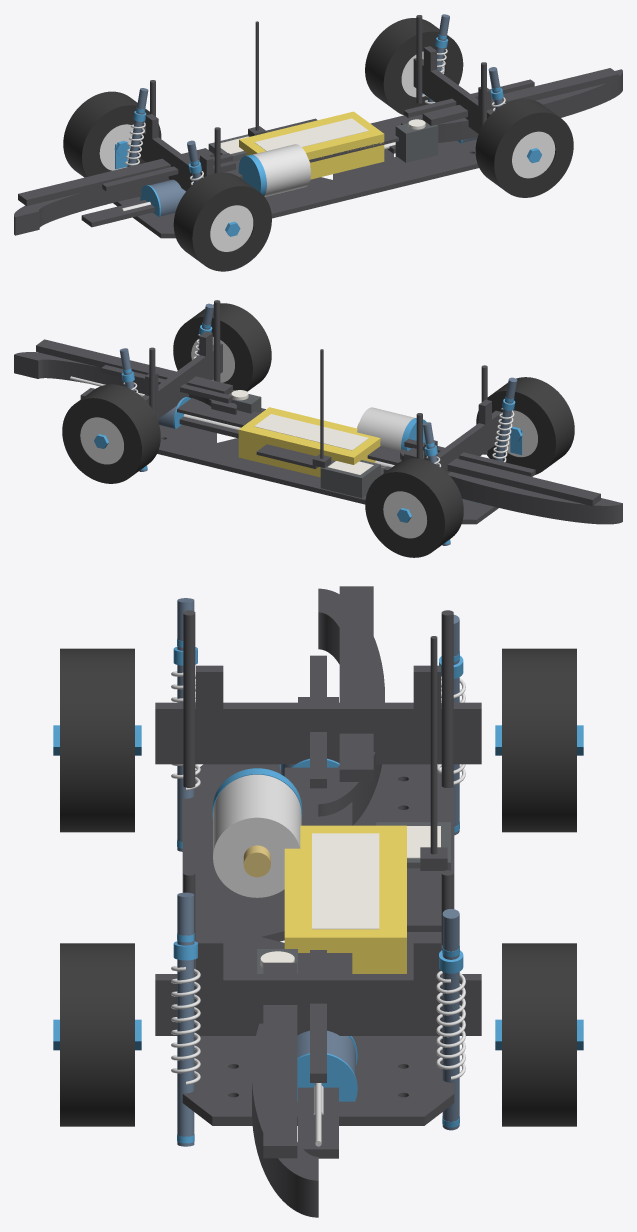
The model's file is HSP94182_assembly.glb.
3 views of the same model, one above another, from view 1: azimuth 30°, elevation 25°; view 2: azimuth 150°, elevation 25°; view 3: azimuth 270°, elevation 25° (orthographic). The views are drawn at different scales.
Parts seen in each view (by area): view 1: tire_part (×4), chassis_plate_part, foam_part (×2), holder_part (×2), rim_part (×4), pack_part, shock_tower_front_part, can_part, shock_tower_rear_part, label_part, case_part, lower_arm_rr_part (+10 smaller); view 2: tire_part (×4), foam_part (×2), chassis_plate_part, holder_part (×2), rim_part (×4), pack_part, shock_tower_front_part, upper_deck_part, shock_tower_rear_part, case_part (×2), label_part, can_part (+9 smaller); view 3: tire_part (×4), chassis_plate_part, shock_tower_rear_part, shock_tower_front_part, holder_part (×2), pack_part, can_part, foam_part (×2), body_part (×3), label_part, upper_deck_part, spring_part (×2) (+8 smaller).
Boxes of the visible parts, x1=… form: tire_part (×4): x1=63, y1=18, x2=573, y2=271; chassis_plate_part: x1=113, y1=114, x2=478, y2=238; foam_part (×2): x1=14, y1=69, x2=622, y2=235; holder_part (×2): x1=18, y1=68, x2=618, y2=206; rim_part (×4): x1=99, y1=51, x2=555, y2=251; pack_part: x1=239, y1=111, x2=384, y2=179; shock_tower_front_part: x1=413, y1=46, x2=493, y2=133; can_part: x1=253, y1=144, x2=310, y2=196; shock_tower_rear_part: x1=137, y1=114, x2=213, y2=191; label_part: x1=254, y1=118, x2=368, y2=150; case_part: x1=395, y1=120, x2=438, y2=162; lower_arm_rr_part: x1=81, y1=200, x2=154, y2=227; tire_part (×4): x1=62, y1=303, x2=574, y2=557; foam_part (×2): x1=14, y1=352, x2=622, y2=524; chassis_plate_part: x1=157, y1=408, x2=498, y2=524; holder_part (×2): x1=36, y1=339, x2=600, y2=505; rim_part (×4): x1=80, y1=337, x2=537, y2=538; pack_part: x1=238, y1=407, x2=380, y2=477; shock_tower_front_part: x1=142, y1=331, x2=222, y2=419; upper_deck_part: x1=177, y1=398, x2=401, y2=468; shock_tower_rear_part: x1=424, y1=399, x2=502, y2=473; case_part (×2): x1=228, y1=390, x2=380, y2=498; label_part: x1=254, y1=414, x2=368, y2=450; can_part: x1=357, y1=407, x2=414, y2=450; tire_part (×4): x1=60, y1=648, x2=576, y2=1126; chassis_plate_part: x1=182, y1=764, x2=454, y2=1125; shock_tower_rear_part: x1=155, y1=665, x2=481, y2=764; shock_tower_front_part: x1=155, y1=937, x2=481, y2=1035; holder_part (×2): x1=263, y1=586, x2=373, y2=1158; pack_part: x1=284, y1=825, x2=406, y2=973; can_part: x1=213, y1=774, x2=301, y2=897; foam_part (×2): x1=252, y1=588, x2=384, y2=1217; body_part (×3): x1=177, y1=598, x2=459, y2=1146; label_part: x1=312, y1=833, x2=379, y2=929; upper_deck_part: x1=284, y1=767, x2=442, y2=973; spring_part (×2): x1=171, y1=966, x2=465, y2=1085.
Bounding box in the file's own units: 412 × 104 × 156.
